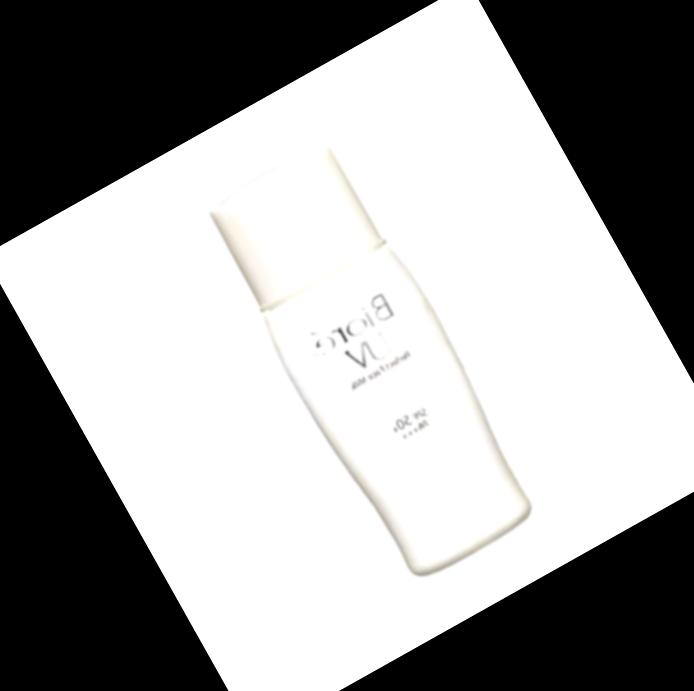cosmetic: (196, 137, 543, 590)
